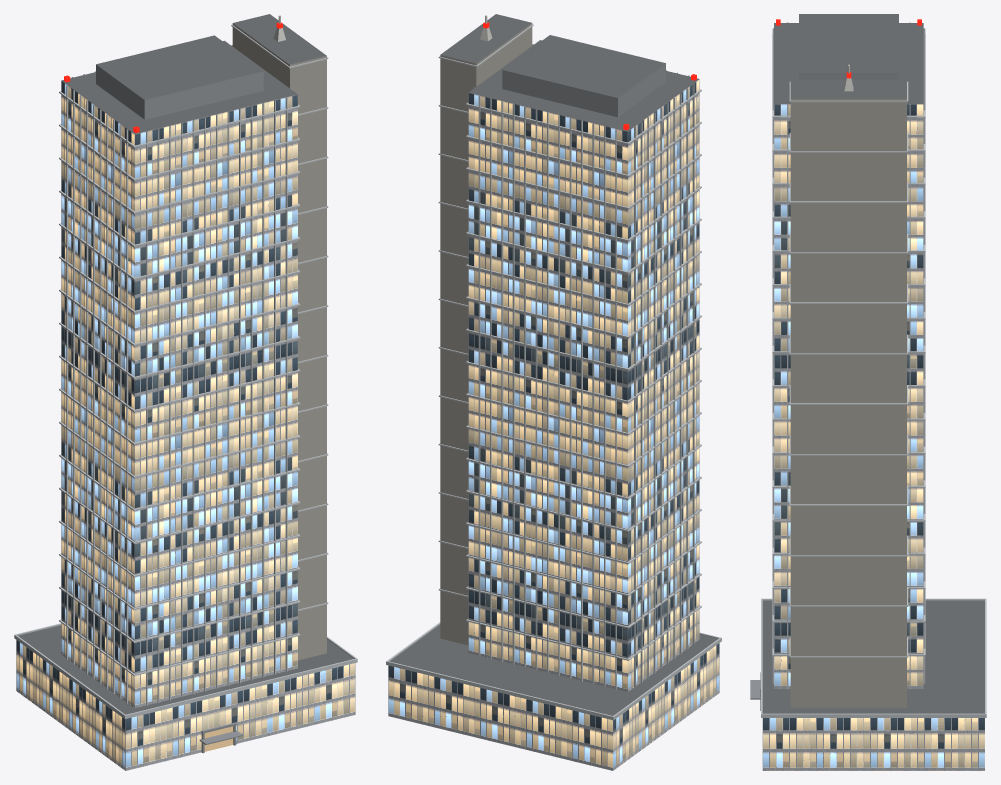
The model's file is shiodome_media_tower.glb.
3 renders of one model, left to right at view 1: azimuth 30°, elevation 25°; view 2: azimuth 150°, elevation 25°; view 3: azimuth 270°, elevation 25°, orthographic. The views are drawn at different scales.
Visible parts, largest first — view 1: shiodome_media_tower; view 2: shiodome_media_tower; view 3: shiodome_media_tower.
Part boxes in pixels (bbox=[...]): shiodome_media_tower: bbox=[14, 14, 357, 770]; shiodome_media_tower: bbox=[386, 14, 721, 770]; shiodome_media_tower: bbox=[750, 14, 986, 770].
Size of the model in its own units: 62 by 172 by 53.5.
2 materials, 2 textured.
